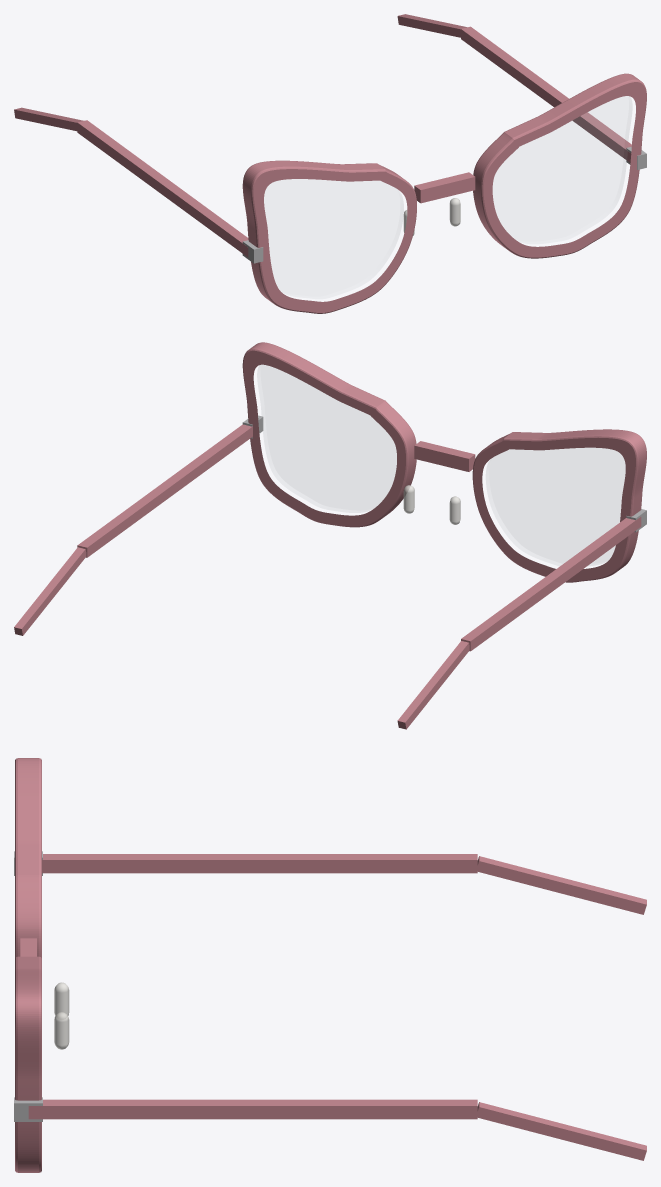
File: frame005.glb
3 renders of one model, top to bottom at view 1: azimuth 30°, elevation 25°; view 2: azimuth 150°, elevation 25°; view 3: azimuth 270°, elevation 25°, orthographic. The views are drawn at different scales.
Visible parts, largest first — view 1: LeftLens, RightLens, RightRim, LeftRim, LeftTemple, RightTemple, Bridge; view 2: RightLens, LeftLens, RightRim, LeftRim, LeftTemple, RightTemple, Bridge; view 3: RightTemple, LeftTemple, RightRim, LeftRim.
Boxes of the visible parts, x1,y1,x2,y2 form: LeftLens: [264, 179, 403, 298]; RightLens: [493, 96, 631, 243]; RightRim: [473, 73, 646, 258]; LeftRim: [242, 160, 416, 313]; LeftTemple: [14, 107, 248, 257]; RightTemple: [397, 14, 631, 162]; Bridge: [414, 172, 475, 203]; RightLens: [257, 365, 396, 512]; LeftLens: [486, 448, 624, 565]; RightRim: [242, 342, 416, 527]; LeftRim: [472, 429, 646, 582]; LeftTemple: [397, 516, 641, 729]; RightTemple: [14, 424, 252, 635]; Bridge: [414, 441, 475, 471]; RightTemple: [28, 1099, 646, 1160]; LeftTemple: [42, 854, 646, 914]; RightRim: [15, 956, 41, 1172]; LeftRim: [15, 758, 41, 958].
Bounding box in the file's own units: 0.1299 × 0.0499 × 0.137.
